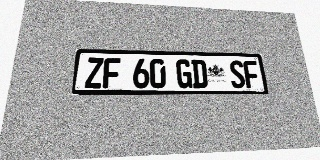0: (150, 59, 166, 88)
6: (133, 58, 149, 88)
D: (191, 60, 208, 88)
F: (103, 58, 121, 88), (243, 61, 260, 88)
G: (176, 59, 192, 88)
S: (229, 60, 246, 88)
Z: (84, 57, 104, 88)
